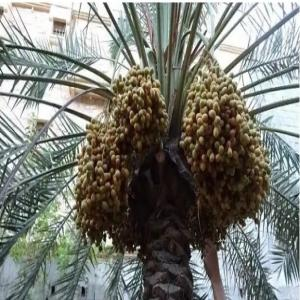palm tree: (0, 2, 299, 299)
